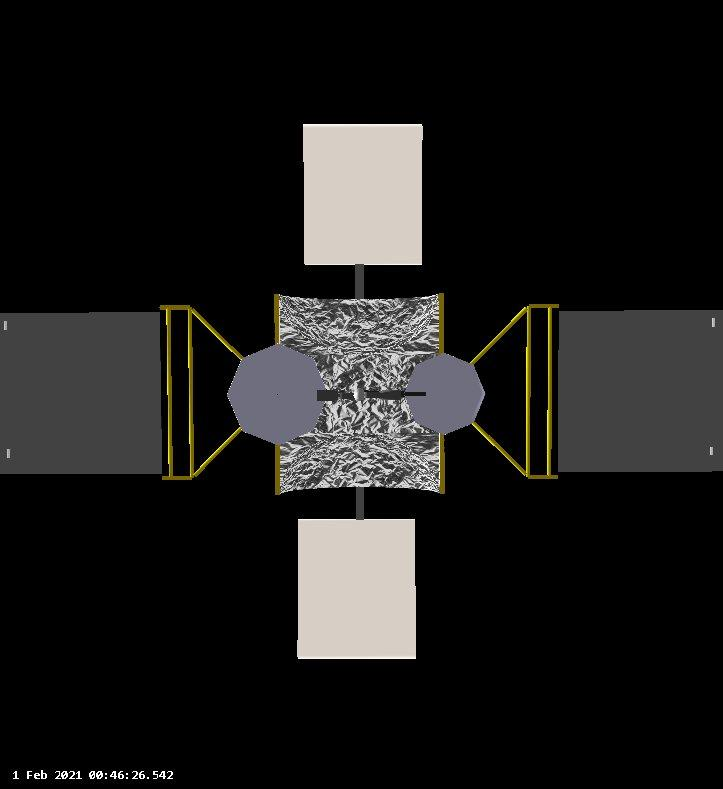antenna: (228, 338, 327, 449), (400, 347, 487, 436)
body: (269, 287, 451, 499)
solar: (0, 295, 252, 485), (469, 305, 723, 483), (289, 508, 427, 660), (297, 115, 429, 270)
